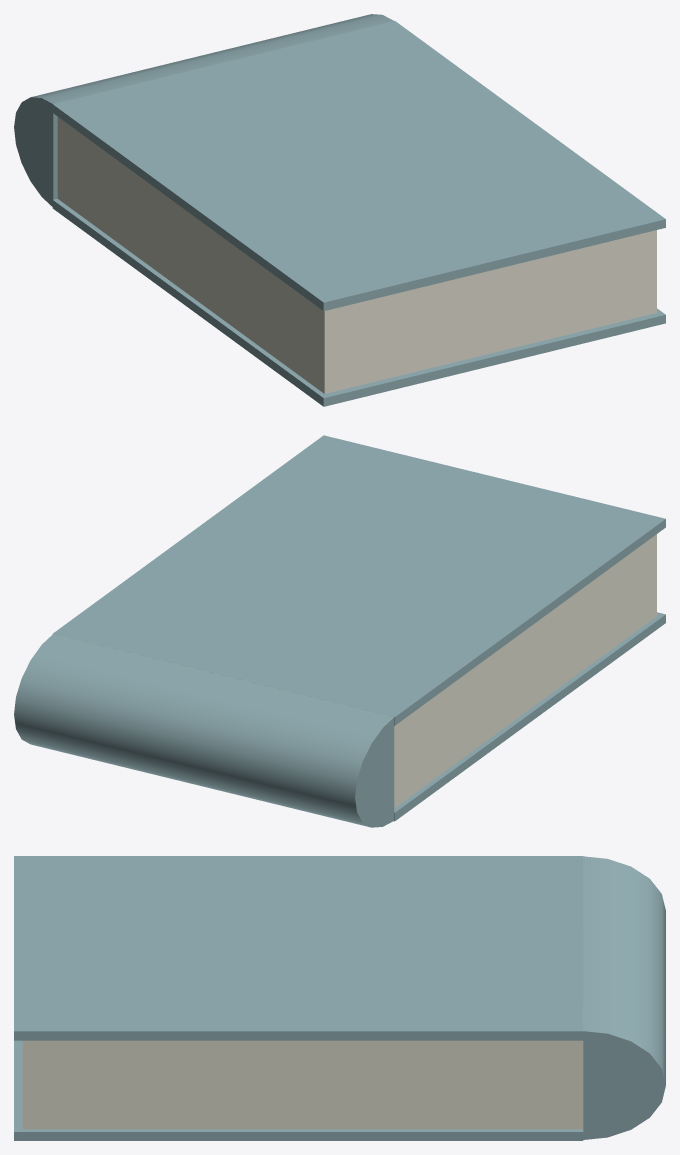
Rendered from book5.fbx.
3 renders of one model, top to bottom at view 1: azimuth 30°, elevation 25°; view 2: azimuth 150°, elevation 25°; view 3: azimuth 270°, elevation 25°, orthographic. The views are drawn at different scales.
Parts seen in each view (by area): view 1: pCylinder13; view 2: pCylinder13; view 3: pCylinder13.
Part boxes in pixels (x1=…): pCylinder13: x1=14, y1=14, x2=665, y2=406; pCylinder13: x1=14, y1=435, x2=665, y2=827; pCylinder13: x1=14, y1=856, x2=665, y2=1140.
Bounding box in the file's own units: 3.01 × 0.8777 × 4.73.
